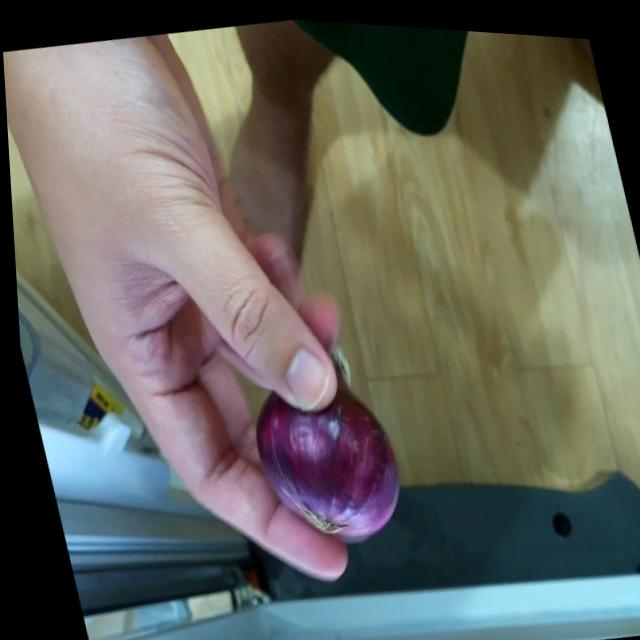onion: (242, 372, 410, 555)
